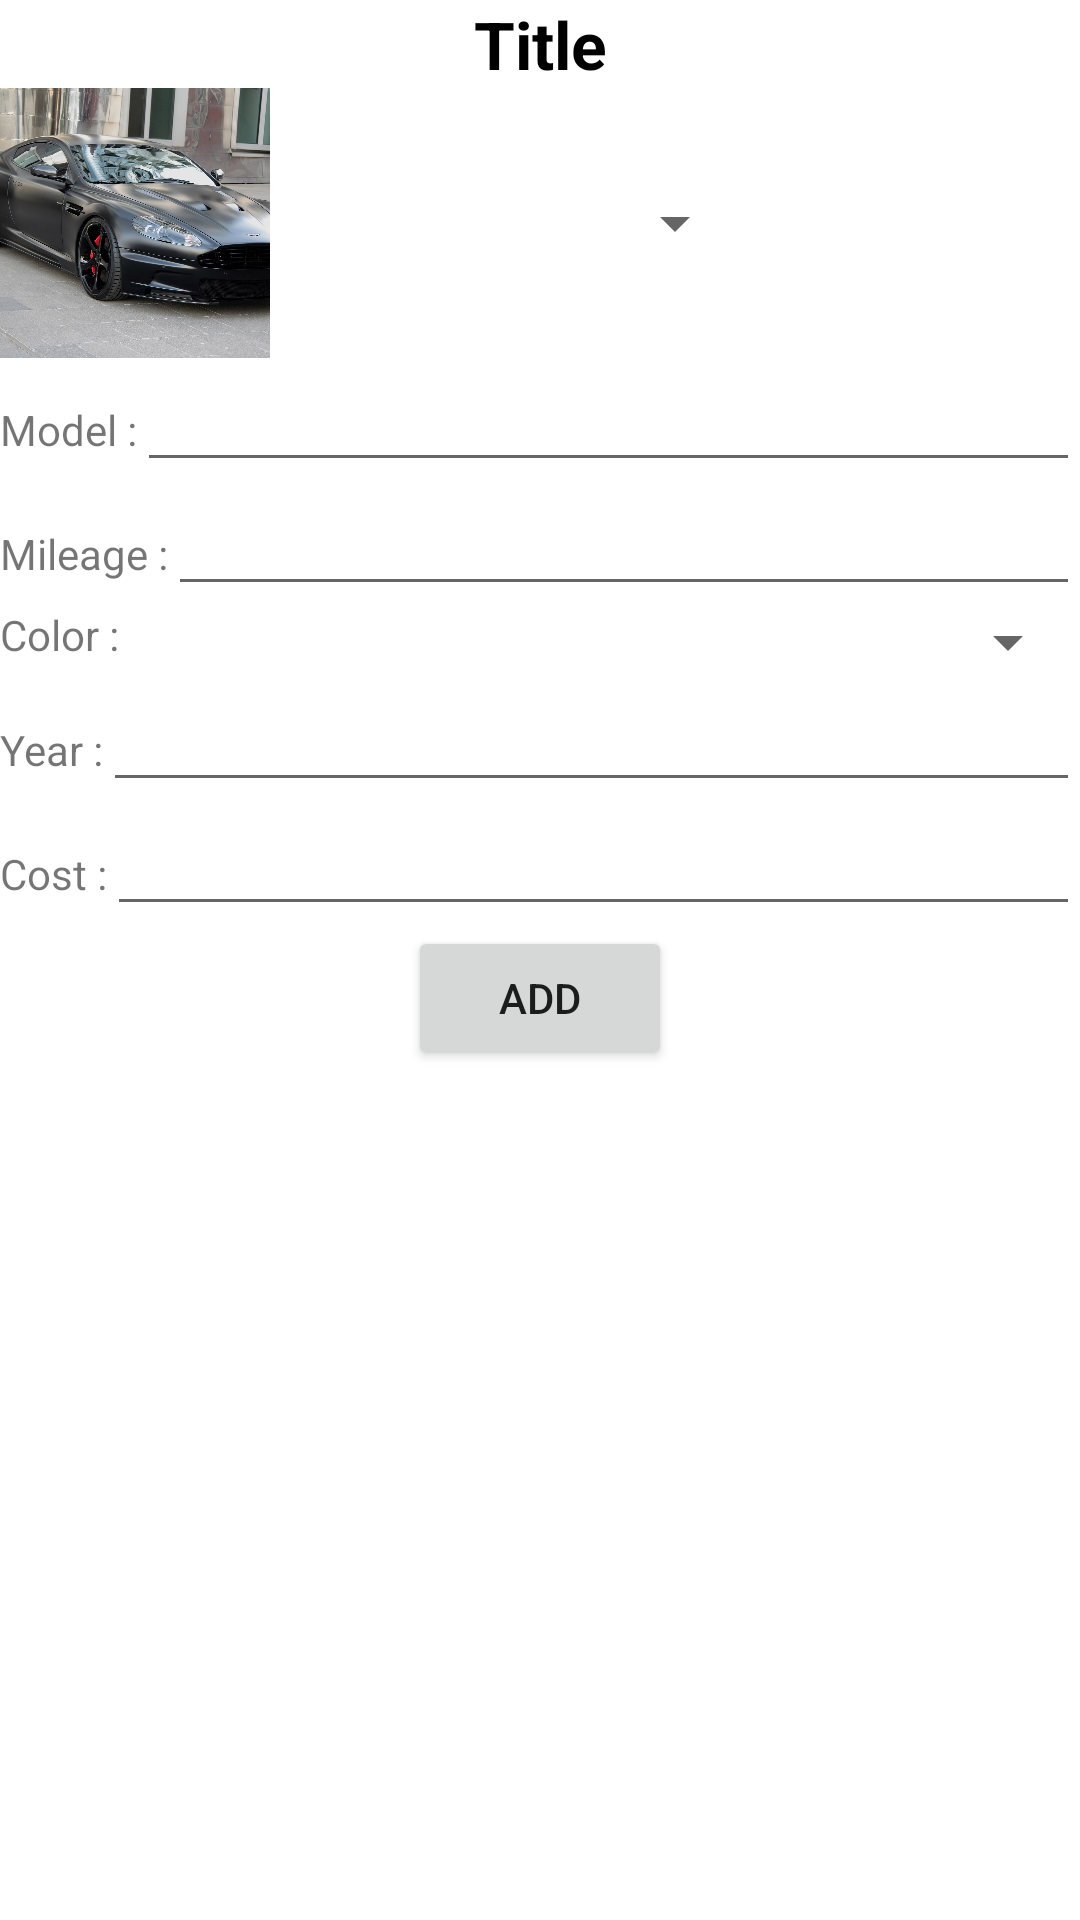

Icon bounding boxes for this 1080w x 1920h phone screenshot, format (x1, y1, x2, y2):
car: (0, 88, 270, 358)
